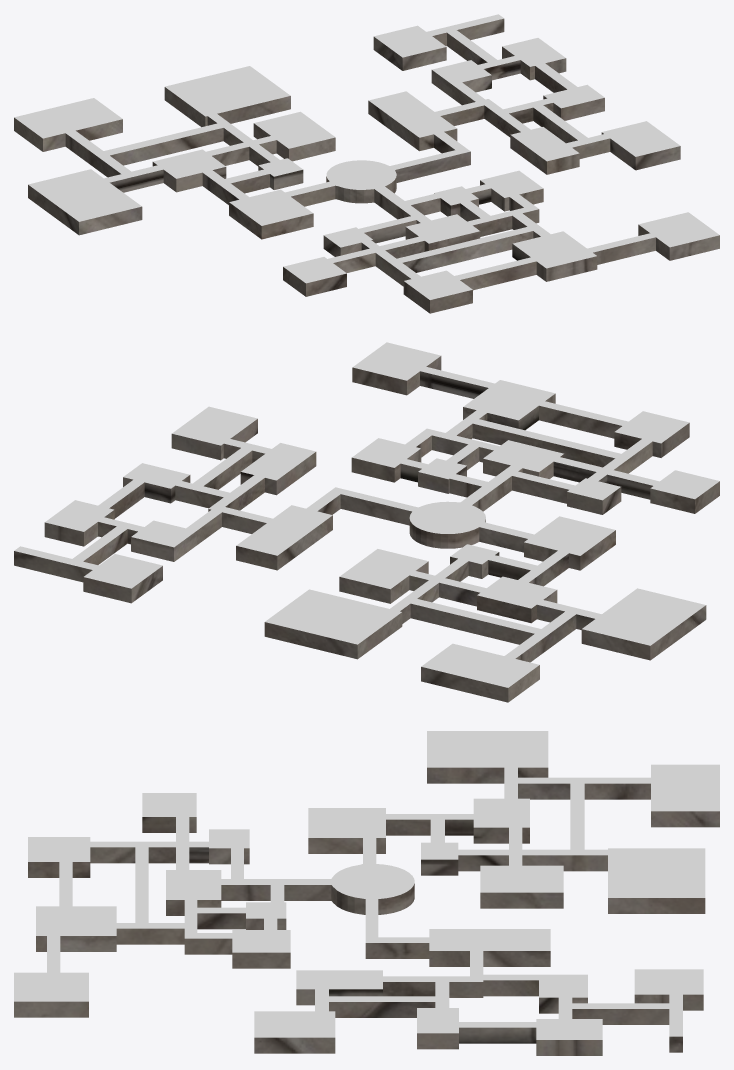
File: Mapa.fbx
3 views of the same model, one above another, from view 1: azimuth 30°, elevation 25°; view 2: azimuth 150°, elevation 25°; view 3: azimuth 270°, elevation 25° (orthographic). The views are drawn at different scales.
Parts seen in each view (by area): view 1: Mapa; view 2: Mapa; view 3: Mapa.
Boxes of the visible parts, x1=… form: Mapa: x1=14, y1=14, x2=719, y2=313; Mapa: x1=14, y1=342, x2=719, y2=702; Mapa: x1=14, y1=731, x2=719, y2=1055.
Bounding box in the file's own units: 8280 × 200 × 7996.
